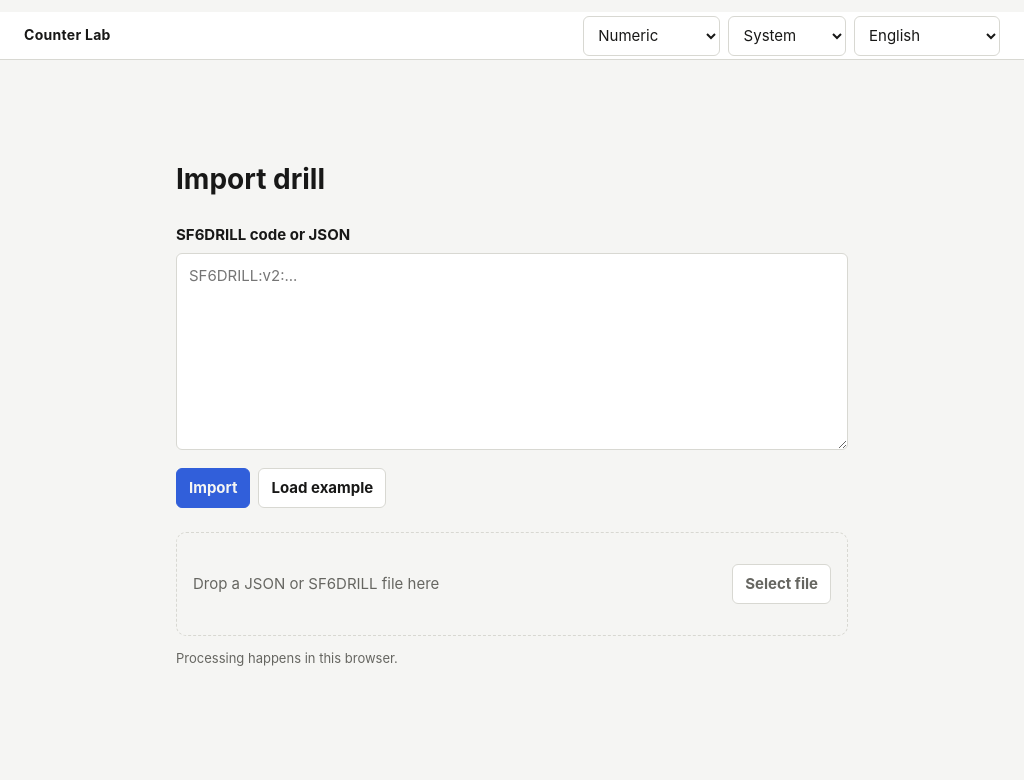
Test case: App › switches the whole interface to Portuguese
The width and height of the screenshot is (1024, 780).
Select "Portuguese" in the 3rd dropdown named "Language" at coordinates (927, 36), box [854,16,1000,56]
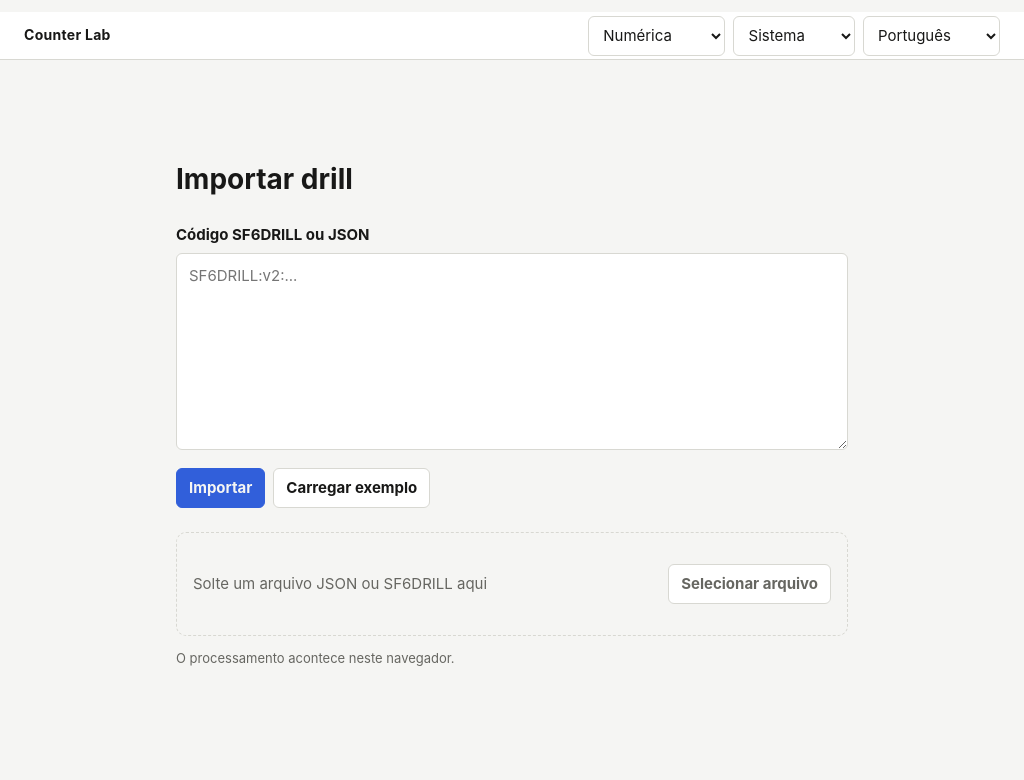
Now the heading "Importar drill" is shown, box [176,162,353,196]
Now the button "Carregar exemplo" is shown, box [273,468,430,508]
Type "invalid" into the text box labelled "Código SF6DRILL ou JSON" at coordinates (512, 352), box [176,254,848,450]
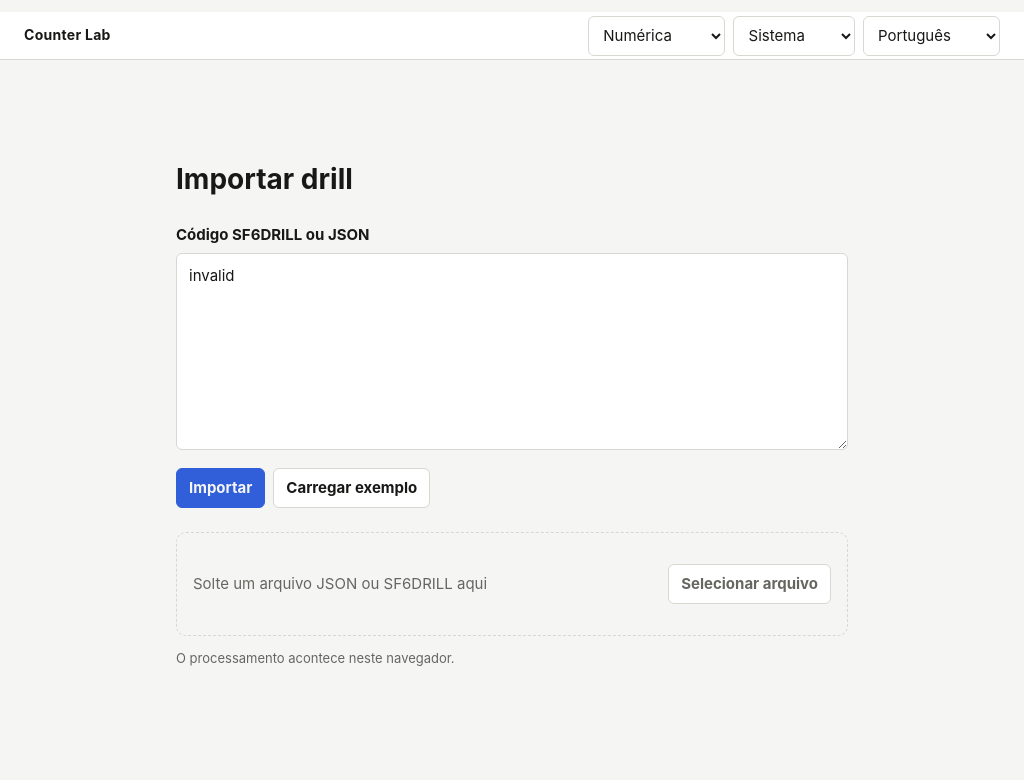
Click the button "Importar" at coordinates (221, 488), box [176,468,265,508]
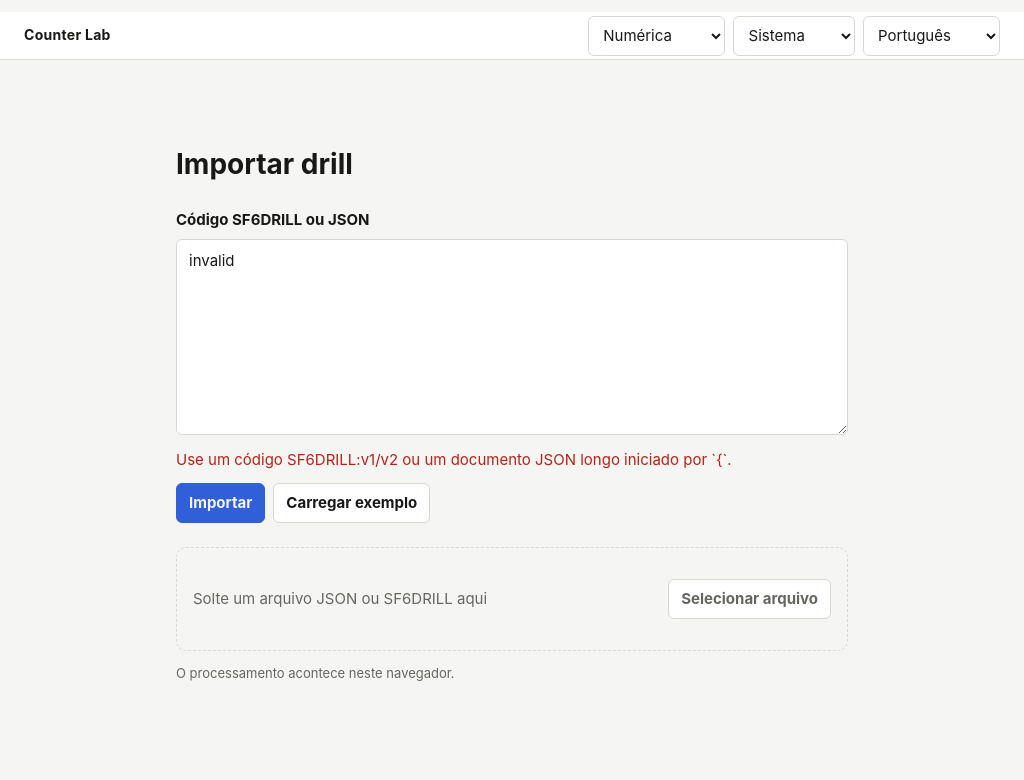
Now the message shows "Use um código SF6DRILL:v1/v2", box [176,450,732,469]
